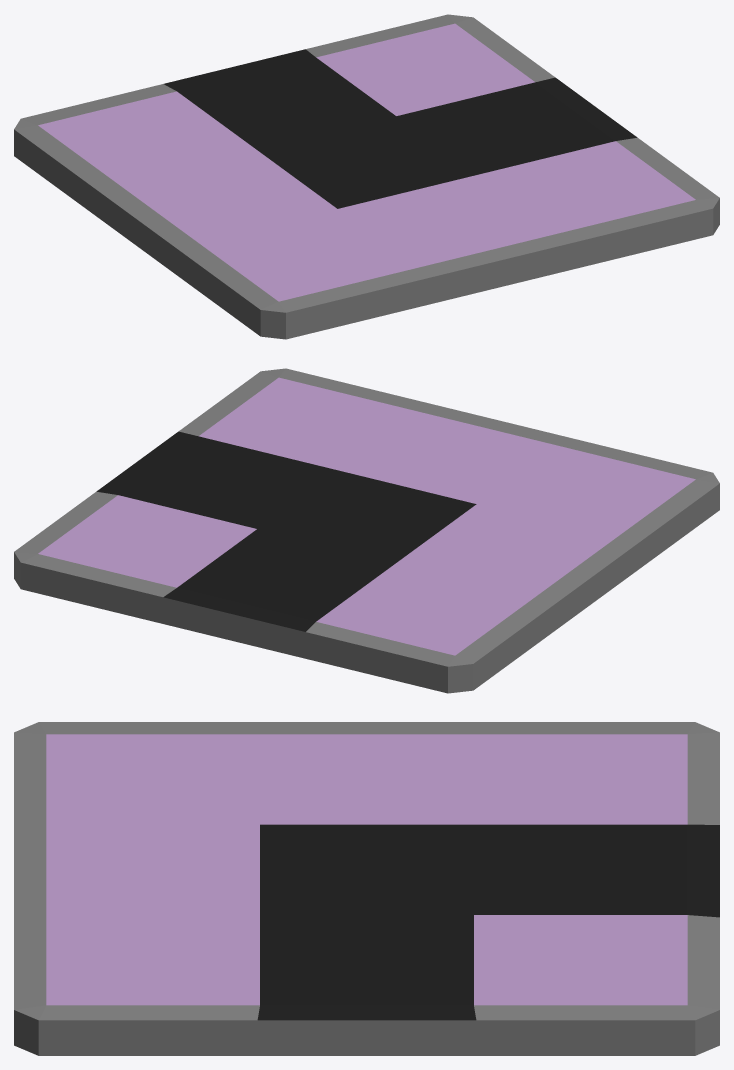
Rendered from streetcorner.fbx.
3 views of the same model, one above another, from view 1: azimuth 30°, elevation 25°; view 2: azimuth 150°, elevation 25°; view 3: azimuth 270°, elevation 25° (orthographic). The views are drawn at different scales.
Parts seen in each view (by area): view 1: StreetCorner; view 2: StreetCorner; view 3: StreetCorner.
Part boxes in pixels (bbox=[...]): StreetCorner: bbox=[14, 14, 719, 339]; StreetCorner: bbox=[14, 368, 719, 693]; StreetCorner: bbox=[14, 722, 719, 1055].
Size of the model in its own units: 100 by 5.98 by 100.
